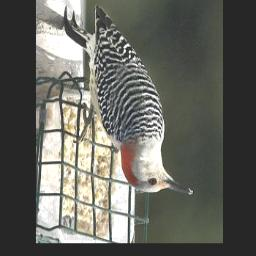Woodpecker: (63, 5, 193, 196)
